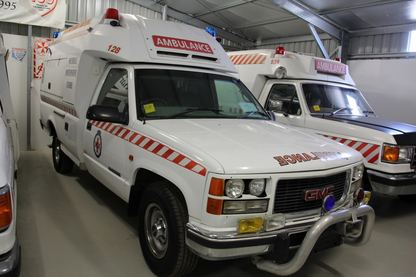ambulance: (40, 6, 375, 275), (224, 45, 416, 213)
